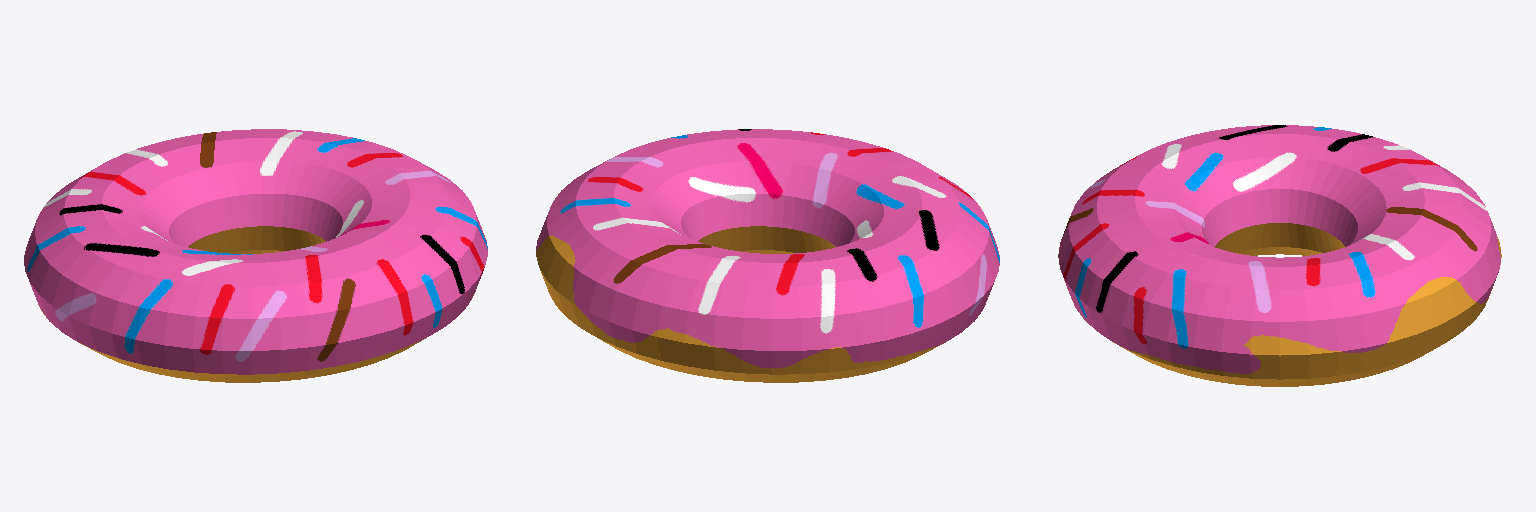
The picture shows the model from 3 angles: view 1: azimuth 30°, elevation 25°; view 2: azimuth 150°, elevation 25°; view 3: azimuth 270°, elevation 25°; orthographic projection.
Parts seen in each view (by area): view 1: Torus; view 2: Torus; view 3: Torus.
Boxes of the visible parts, <box> form: Torus: <box>24,129,487,382</box>; Torus: <box>536,129,999,382</box>; Torus: <box>1058,125,1501,386</box>.
Bounding box in the file's own units: 9.42 × 2.45 × 8.87.
Materials: 1 (1 with a texture image).